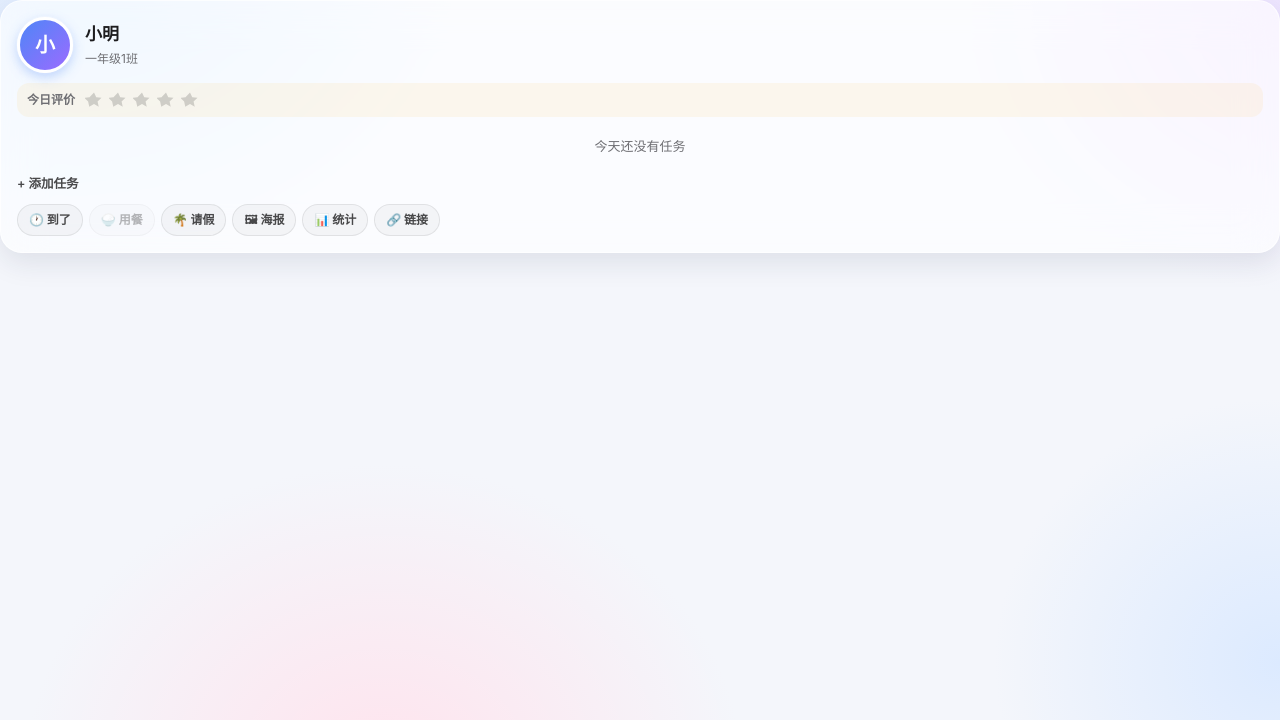
Test case: StudentCard leave chip › opens a modal to enter a reason on first click, and saves it on confirm
Click the button "🌴 请假" at (194, 220), box [161, 204, 226, 236]
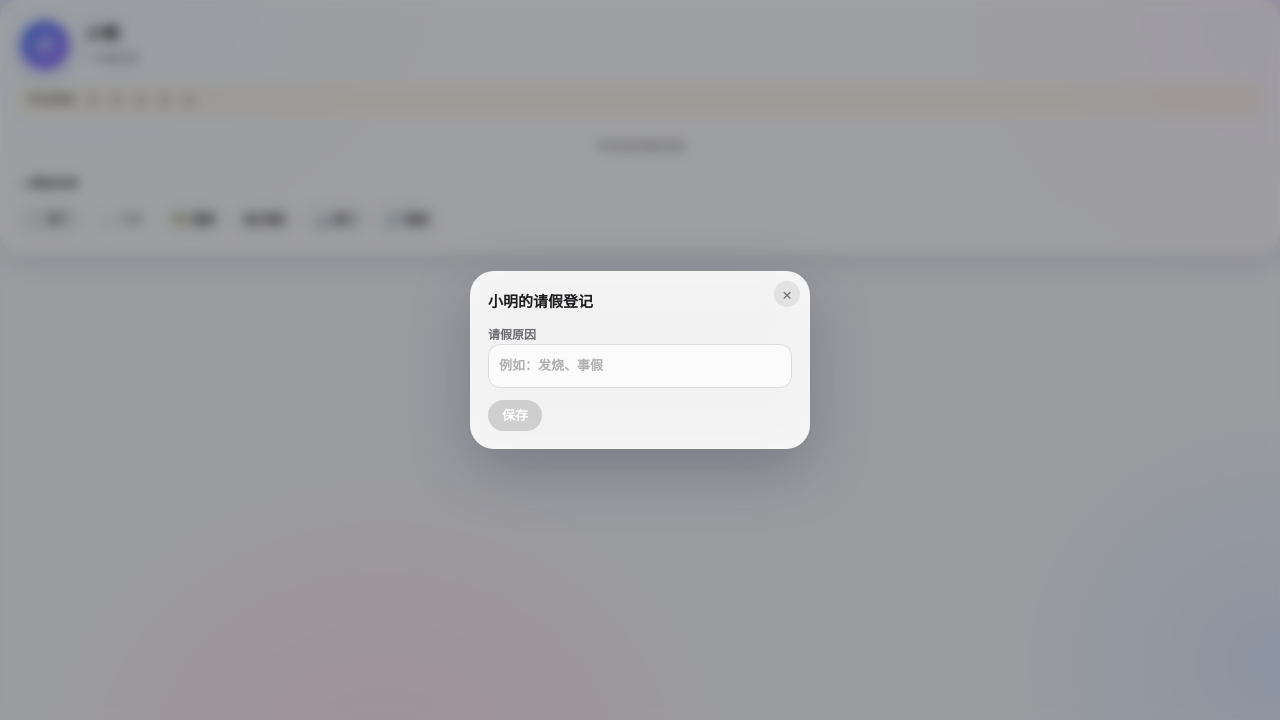
Expected: the text "小明的请假登记" is shown, [488, 292, 593, 311]
Type "发烧" into the field labelled "请假原因" at (640, 366), box [488, 344, 792, 388]
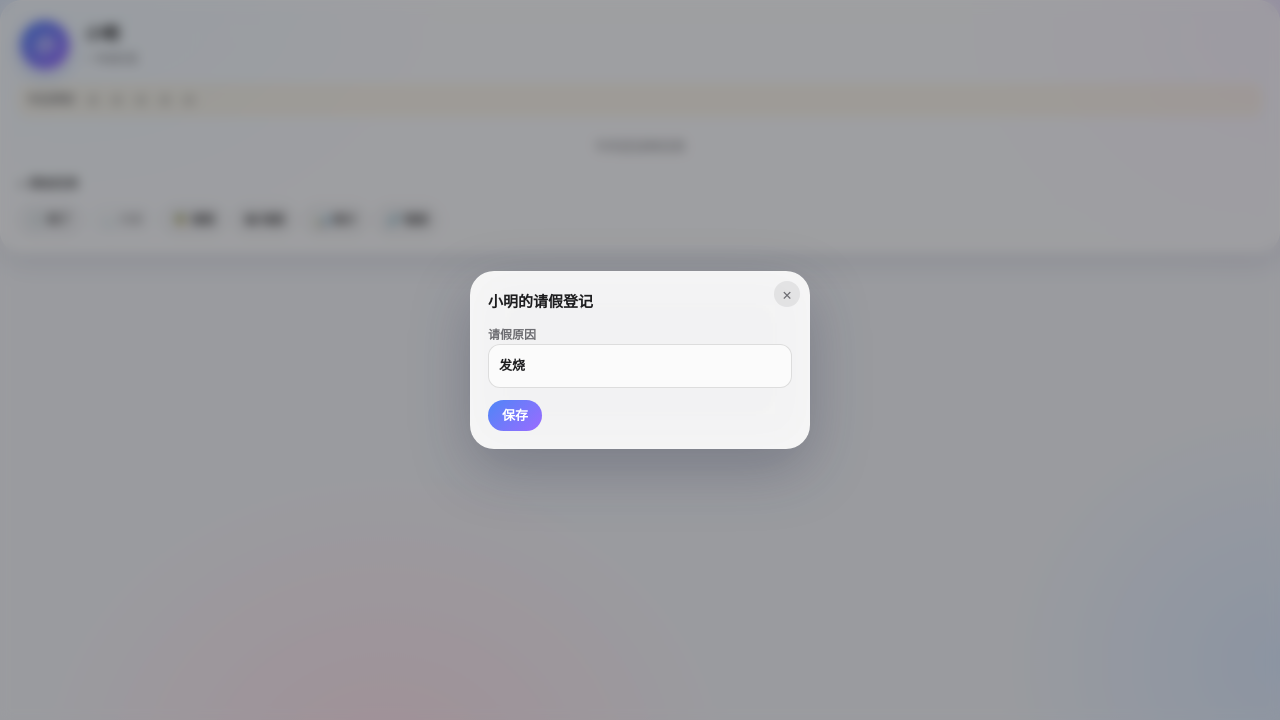
Click the button "保存" at (515, 415), box [488, 400, 542, 431]
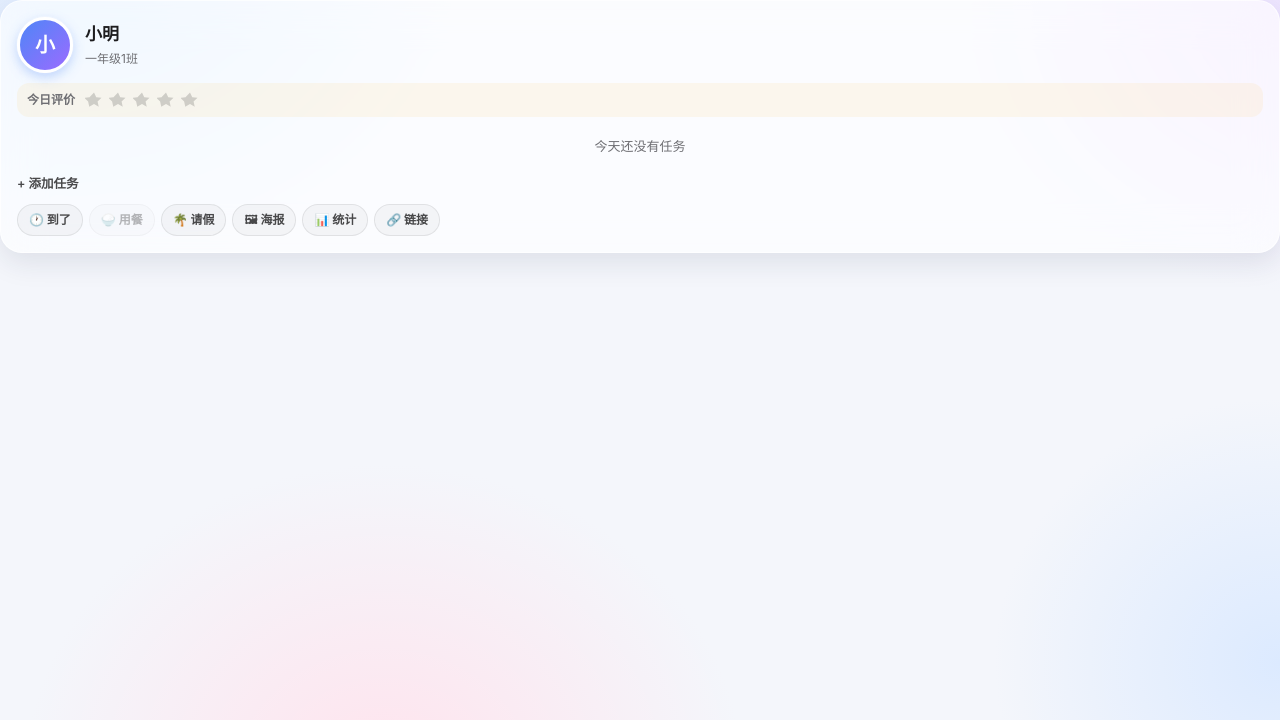
Expected: the text "小明的请假登记" is gone
